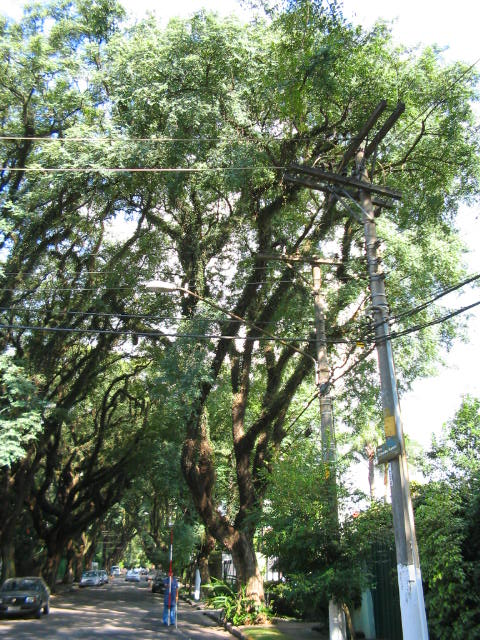crown: (79, 10, 478, 320)
stem: (213, 552, 284, 626)
stick: (164, 530, 178, 626)
tree: (76, 9, 479, 624)
